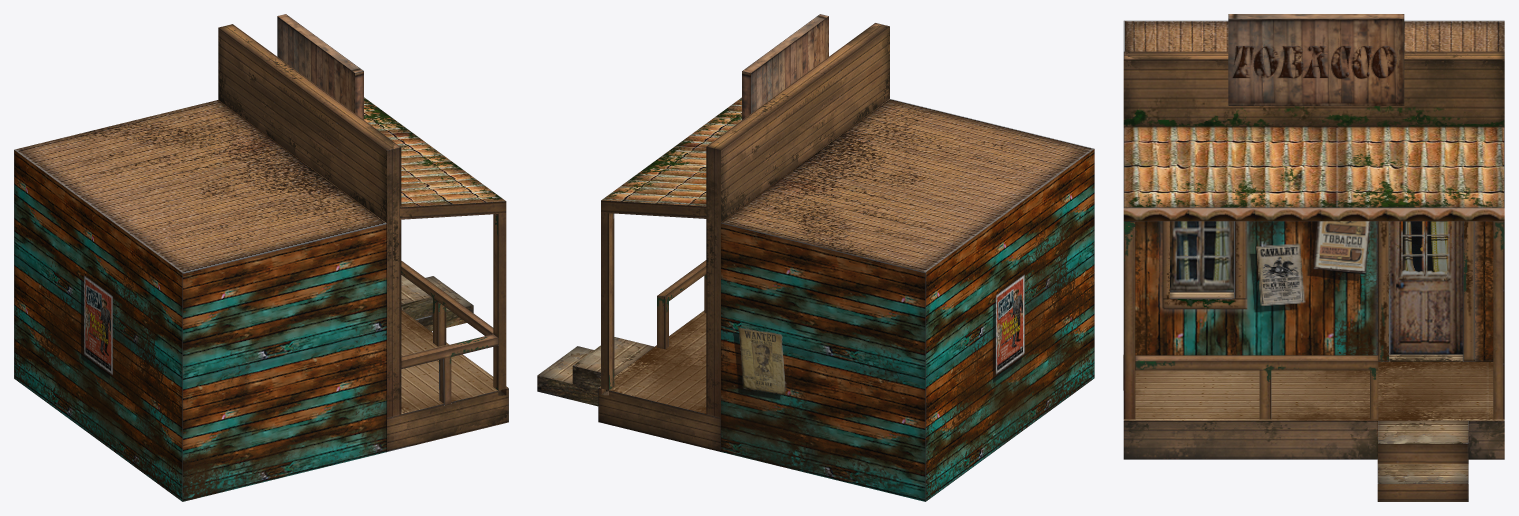
The model's file is western_tobacco.glb.
3 renders of one model, left to right at view 1: azimuth 30°, elevation 25°; view 2: azimuth 150°, elevation 25°; view 3: azimuth 270°, elevation 25°, orthographic. The views are drawn at different scales.
Parts seen in each view (by area): view 1: Cube; view 2: Cube; view 3: Cube.
Part boxes in pixels (box(x1,y1,x2,y2)): Cube: box(14, 14, 508, 501); Cube: box(537, 14, 1094, 501); Cube: box(1123, 14, 1504, 501).
Bounding box in the file's own units: 6.03 × 4.88 × 4.37.
1 material, 1 textured.
